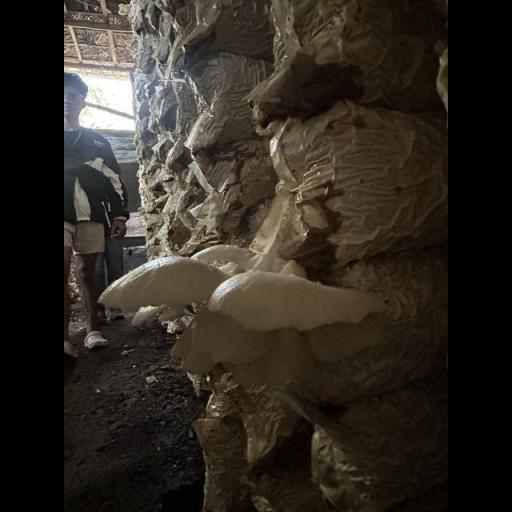White Oyster Mushroom: (96, 240, 385, 366)
